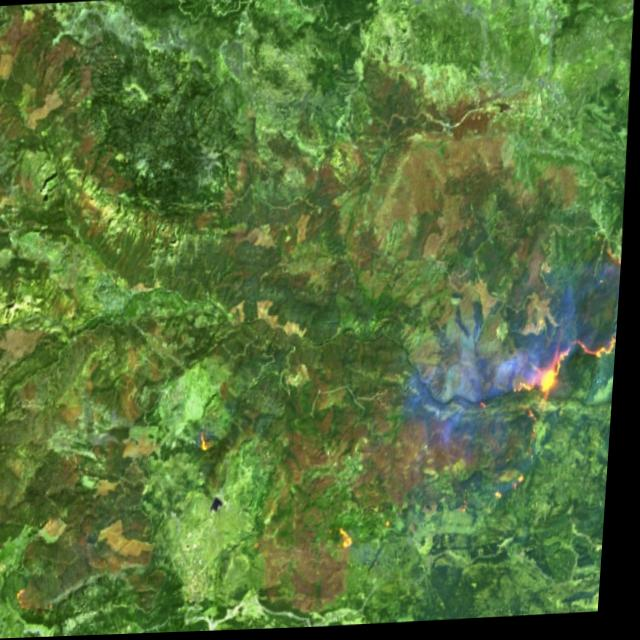fire: (504, 320, 622, 414), (328, 512, 376, 568), (187, 416, 229, 469)
